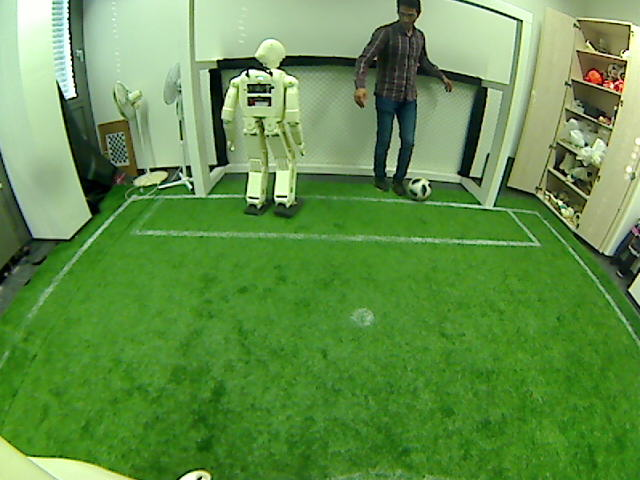ball: (408, 177, 430, 201)
goalpost: (479, 167, 498, 206), (193, 161, 210, 195)
robot: (236, 141, 302, 216)
